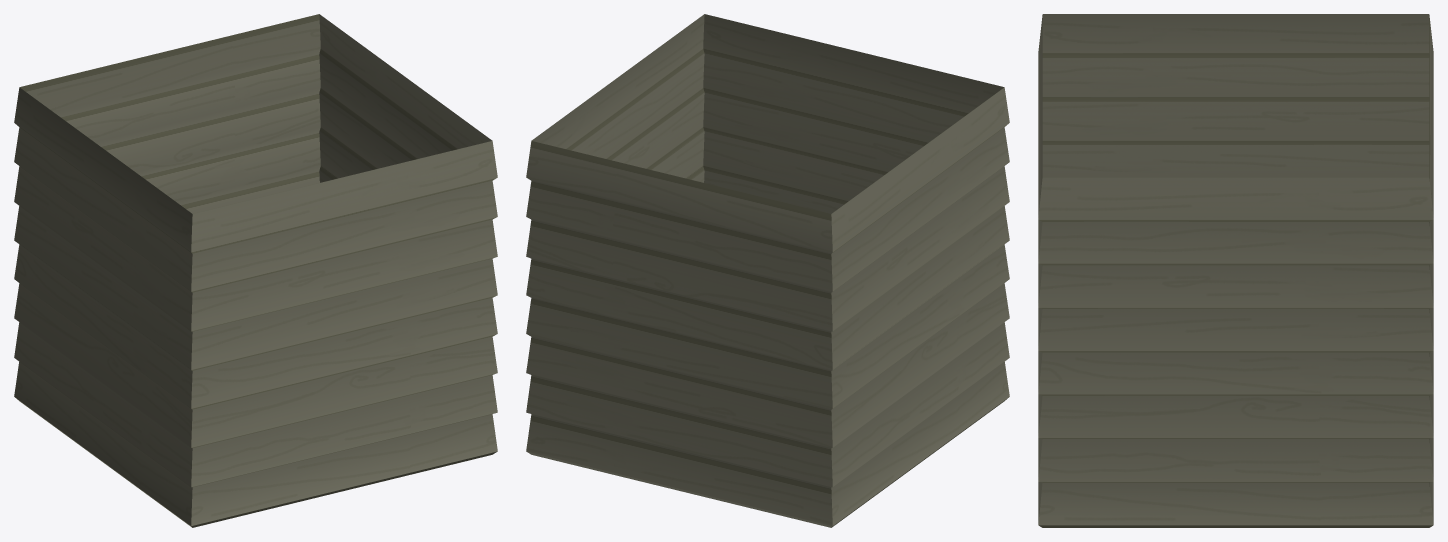
The model's file is WoodPanel_Building_geo.fbx.
3 renders of one model, left to right at view 1: azimuth 30°, elevation 25°; view 2: azimuth 150°, elevation 25°; view 3: azimuth 270°, elevation 25°, orthographic. The views are drawn at different scales.
Parts seen in each view (by area): view 1: WoodPanel_Building_geo; view 2: WoodPanel_Building_geo; view 3: WoodPanel_Building_geo.
Part boxes in pixels (left/top/right/bottom): WoodPanel_Building_geo: left=14, top=14, right=497, bottom=527; WoodPanel_Building_geo: left=526, top=14, right=1009, bottom=527; WoodPanel_Building_geo: left=1038, top=14, right=1433, bottom=527.
Size of the model in its own units: 10.34 by 10.12 by 10.34.
1 material, 1 textured.
